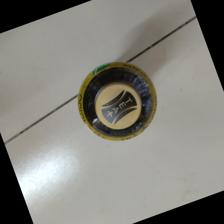Olong: (77, 61, 159, 142)
